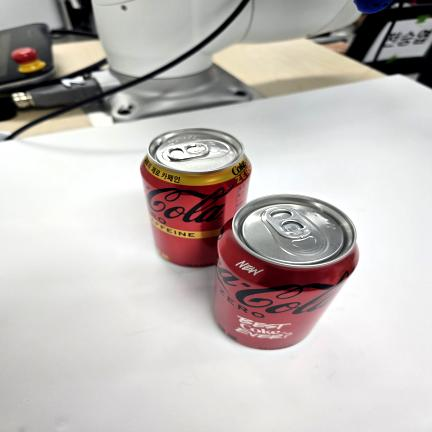can_coke_decaf: (143, 129, 252, 267)
can_coke_zero: (205, 196, 358, 351)
